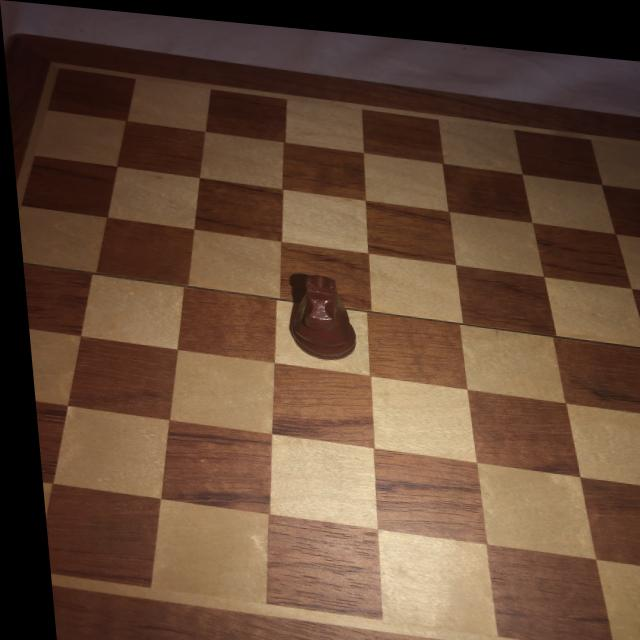black_knight: (277, 265, 352, 358)
